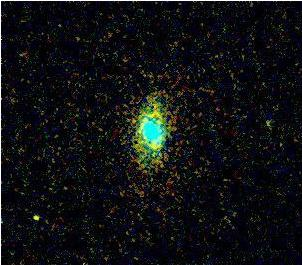star: (22, 197, 52, 227)
